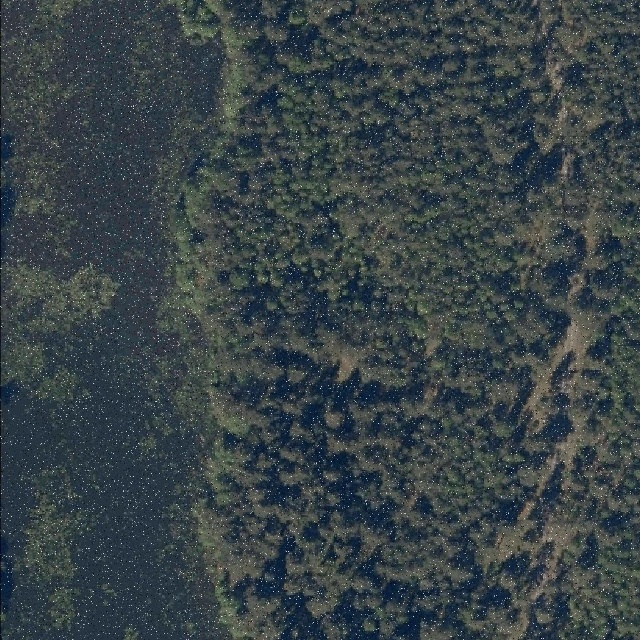vegetation: (174, 0, 640, 640)
